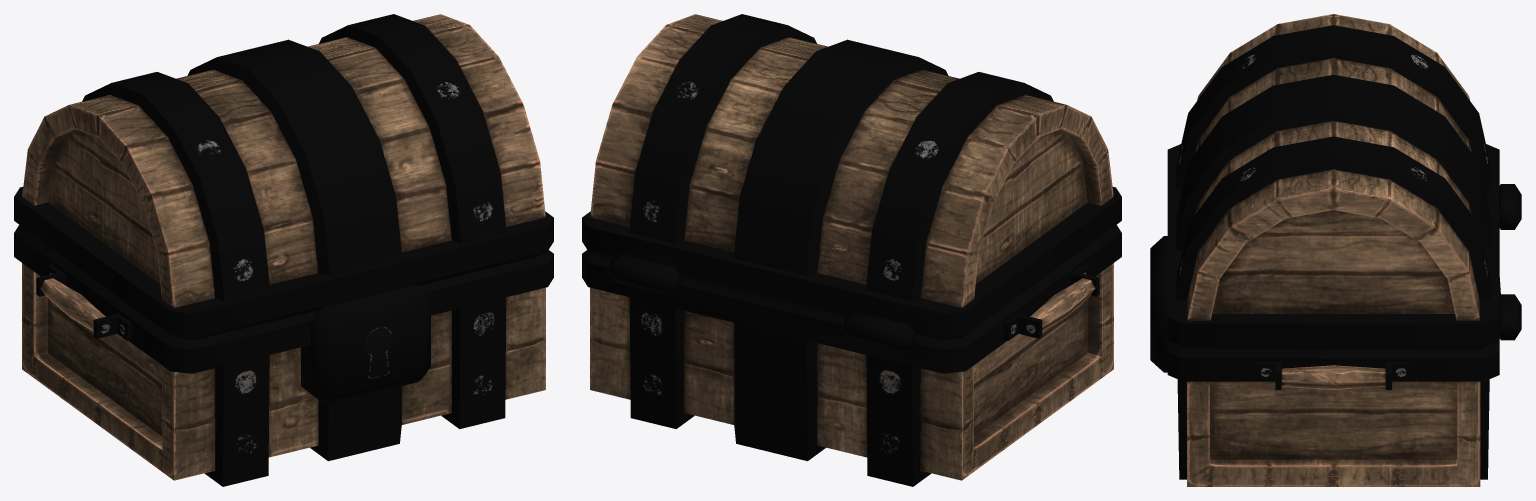
Rendered from chest.gltf.
3 views of the same model, side by side, from view 1: azimuth 30°, elevation 25°; view 2: azimuth 150°, elevation 25°; view 3: azimuth 270°, elevation 25° (orthographic). The views are drawn at different scales.
Parts seen in each view (by area): view 1: Chest_01; view 2: Chest_01; view 3: Chest_01.
Part boxes in pixels (left/top/right/bottom): Chest_01: left=14, top=14, right=553, bottom=486; Chest_01: left=582, top=14, right=1121, bottom=486; Chest_01: left=1150, top=14, right=1521, bottom=486.
Size of the model in its own units: 2 by 1.45 by 1.52.
Materials: 1 (1 with a texture image).
